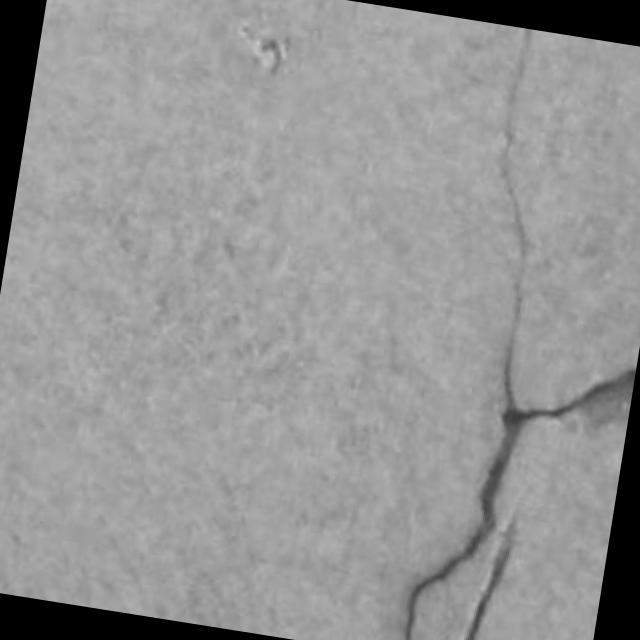crack: (404, 28, 635, 639), (464, 525, 514, 639)
